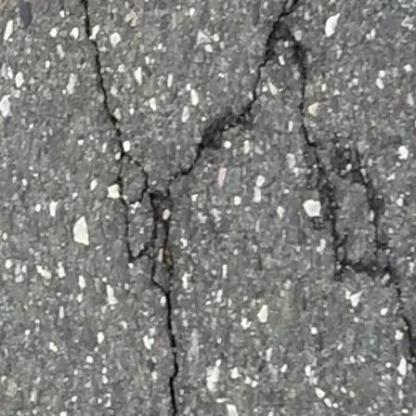Cracks: (77, 0, 340, 265), (339, 148, 416, 392), (129, 265, 212, 416)
